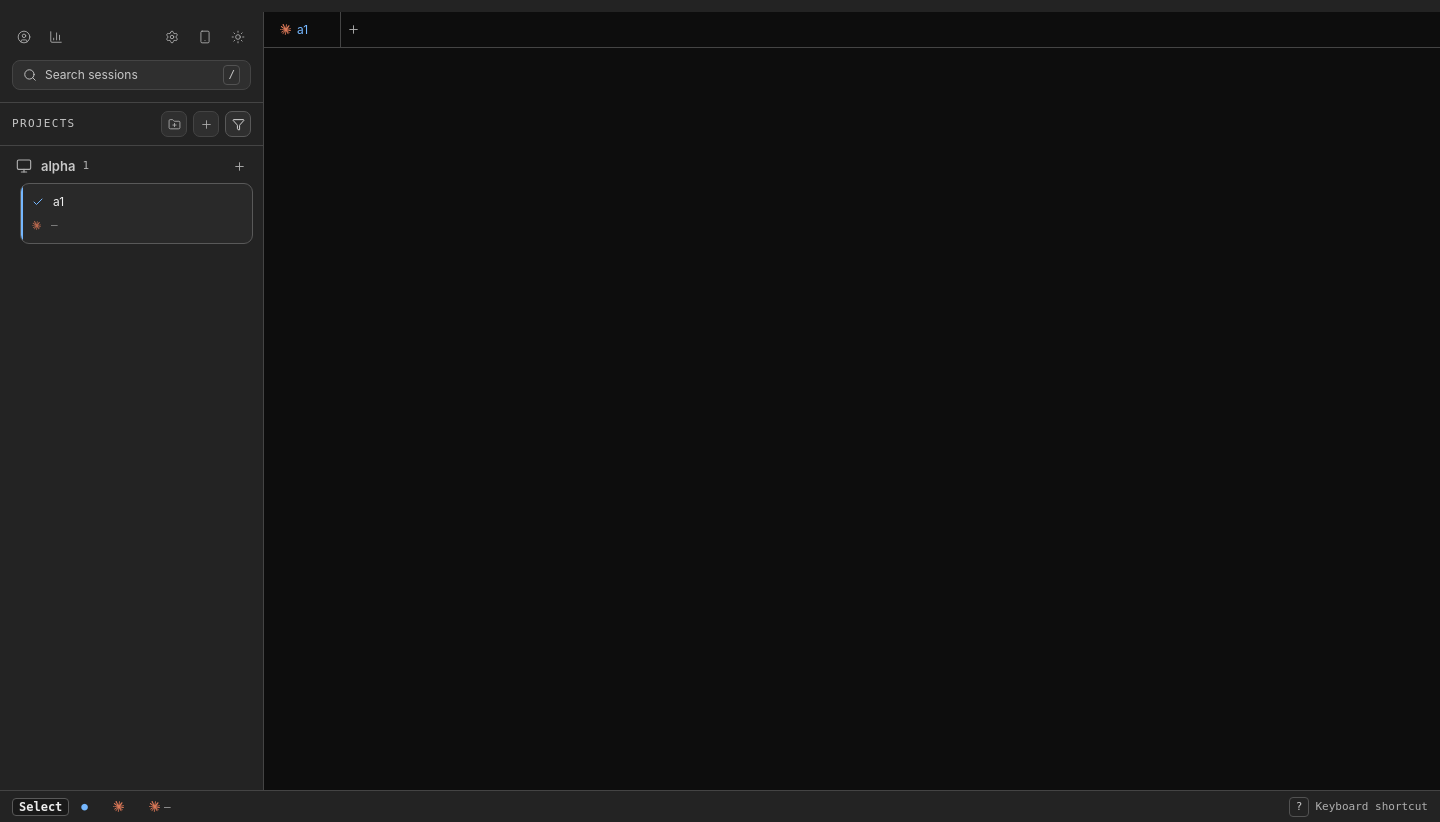
new project › cancelling the picker starts nothing
The width and height of the screenshot is (1440, 822).
Step 1. Click the button named "new project" → (206, 124), box [193, 111, 219, 137]
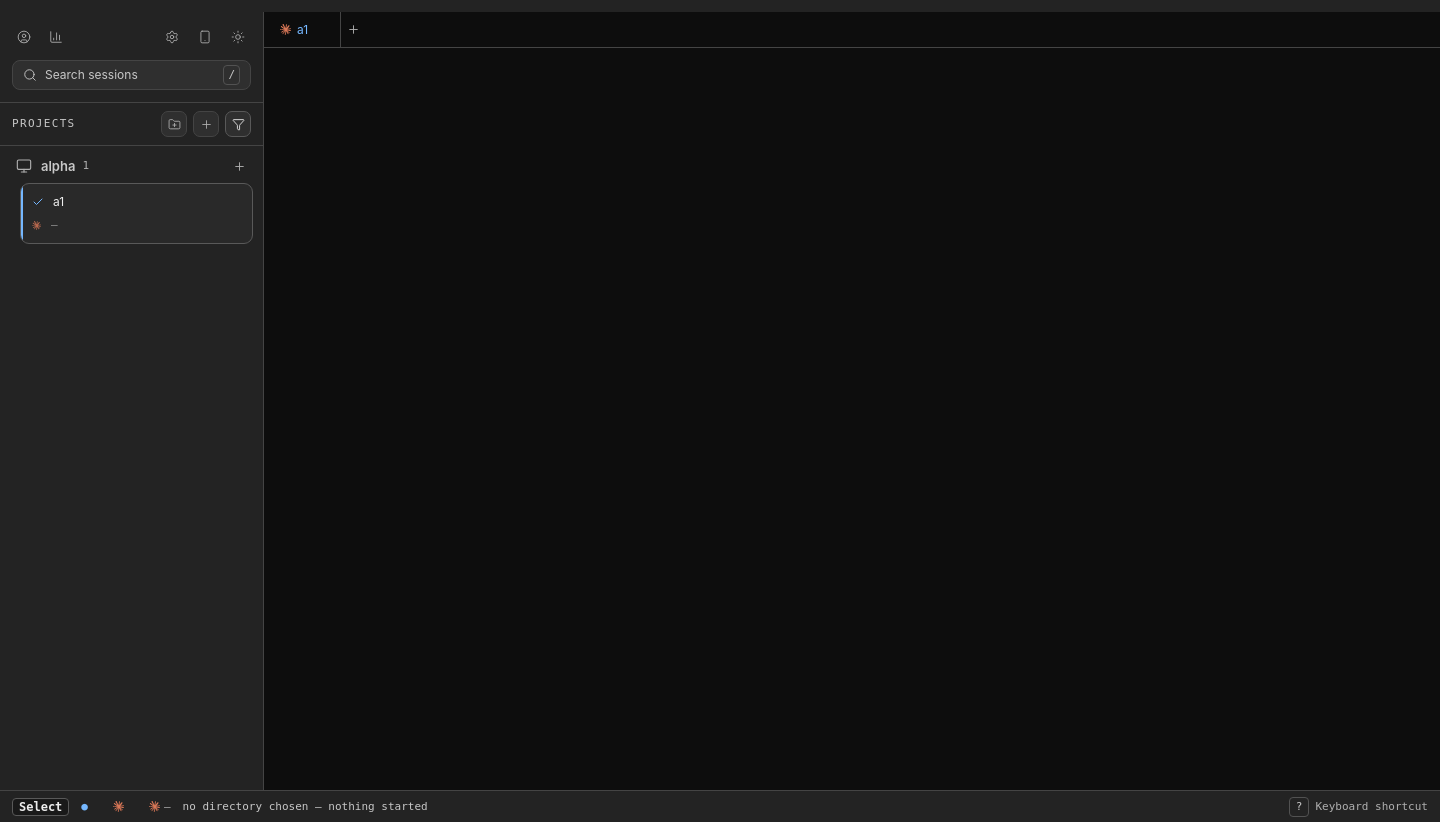
Expected: the footer shows "no directory", [183, 800, 428, 812]
